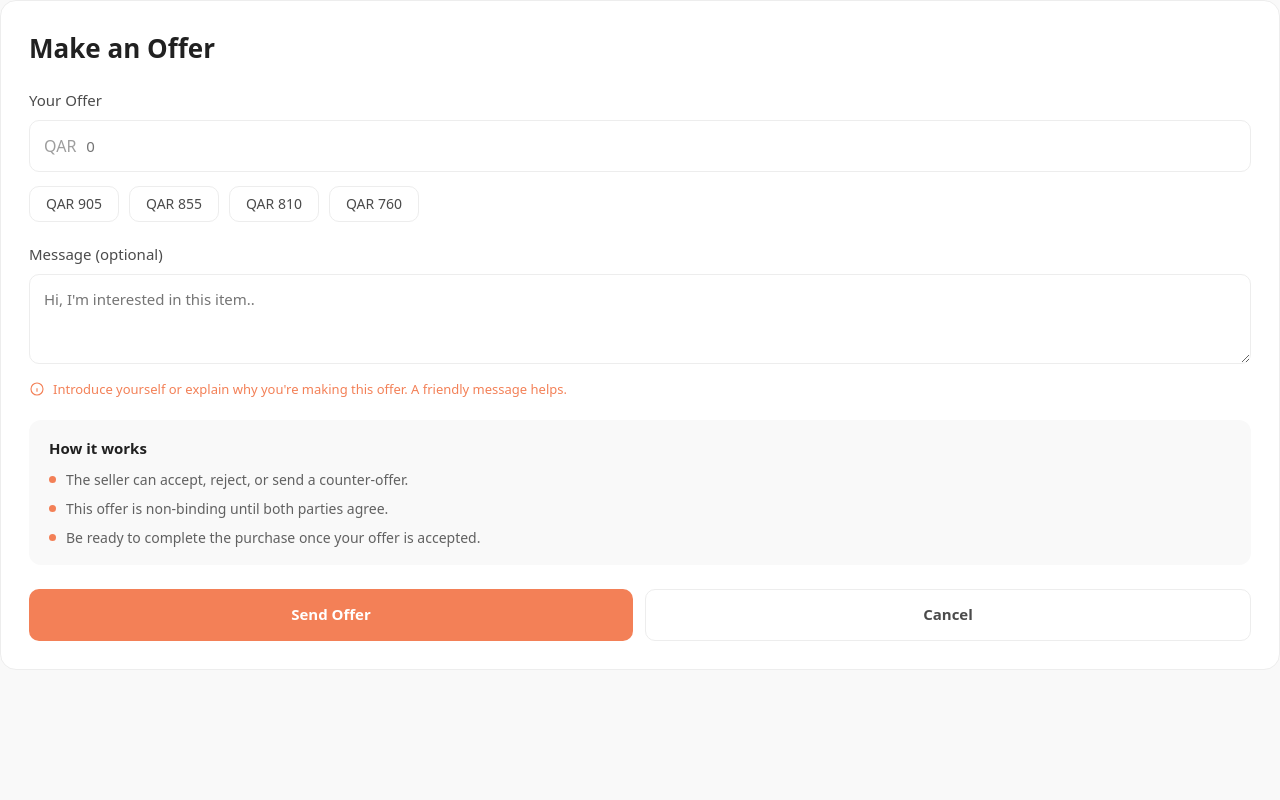
Test case: MakeOfferForm › reports an open offer the buyer already has
Type "900" into the field labelled "Your Offer" at (660, 146), box [84,135,1236,157]
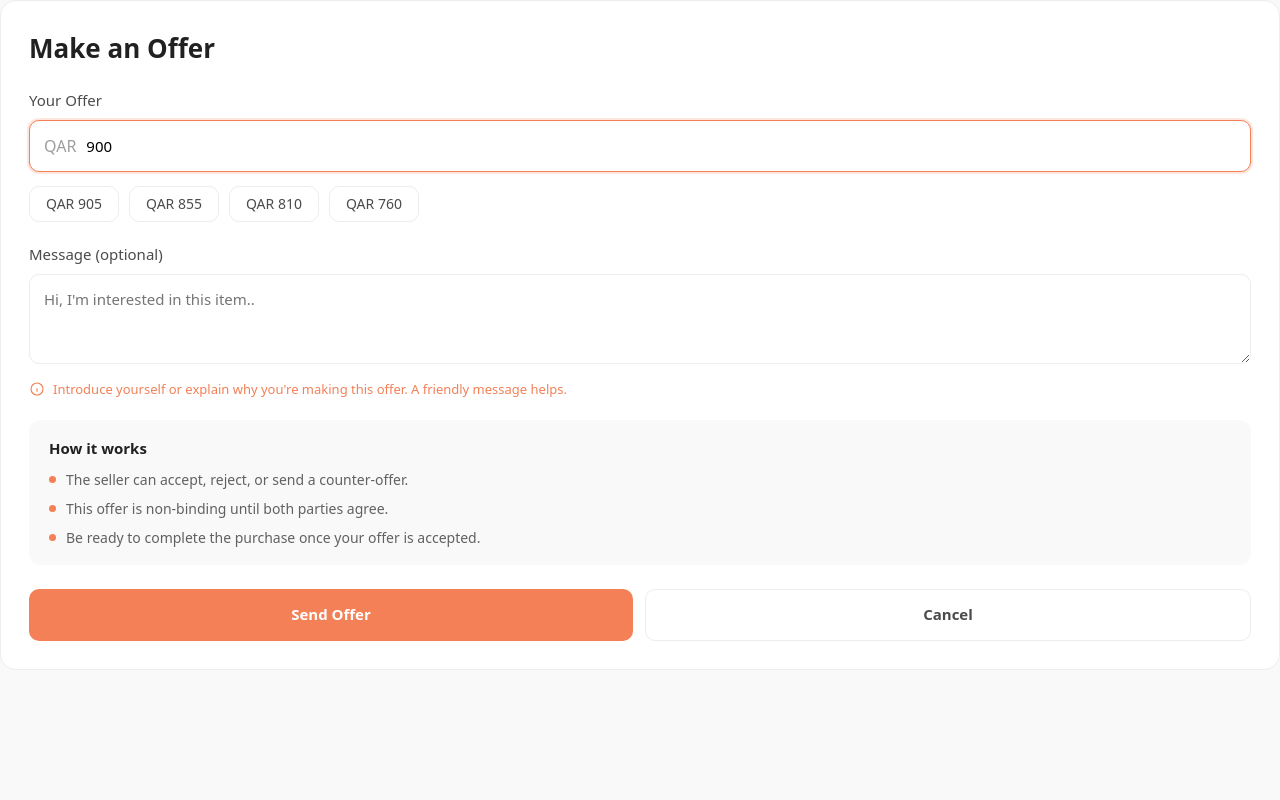
Click the button "Send Offer" at (331, 615), box [29,589,633,641]
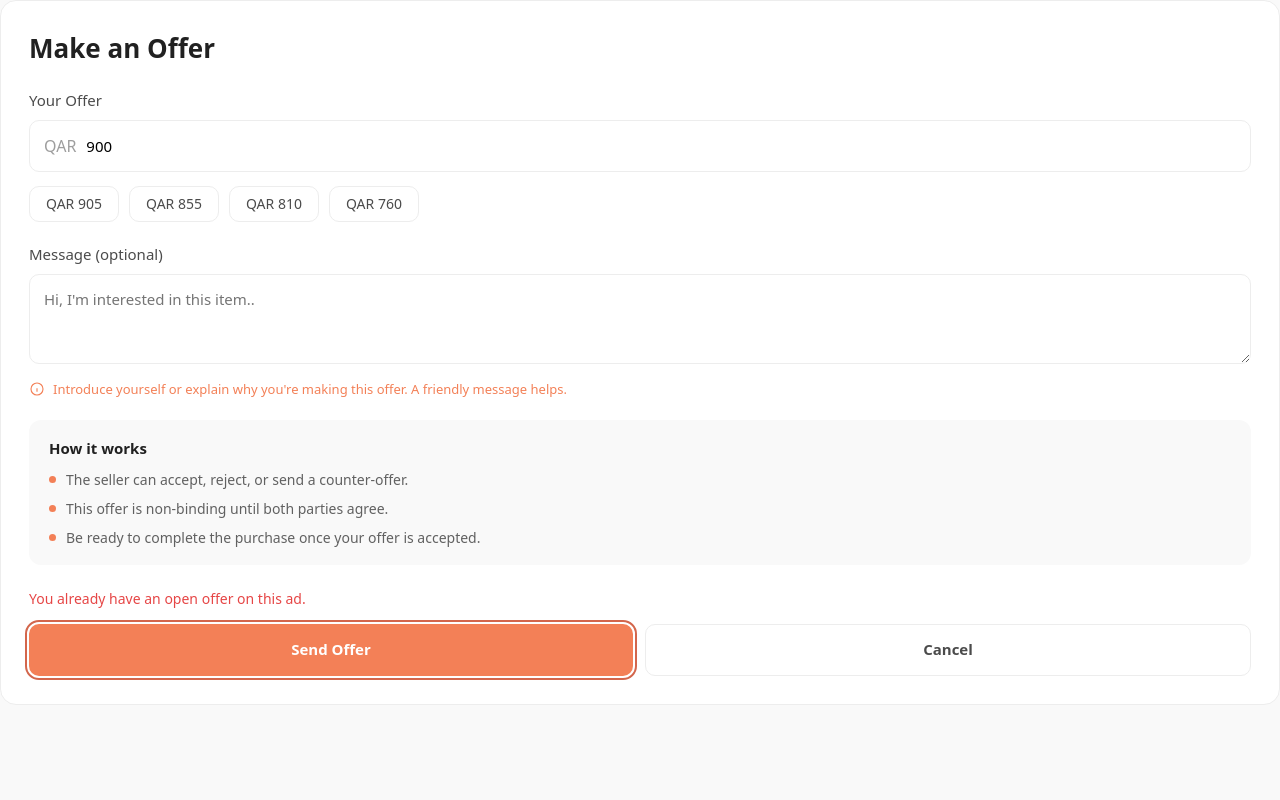
Check: the message reads "You already have an open offer on this ad.", box [29,589,306,608]
